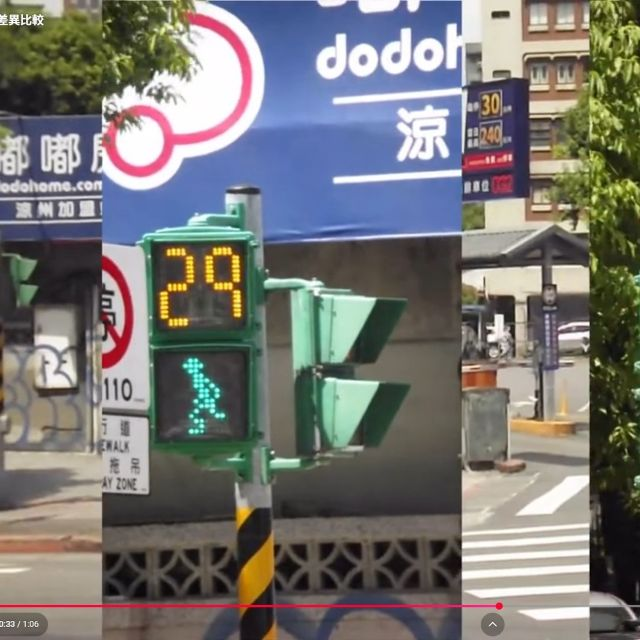green_light: (142, 230, 259, 447)
